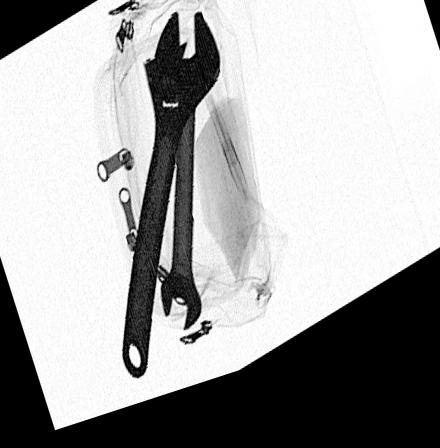Wrench: (122, 18, 219, 383), (160, 50, 207, 344)
